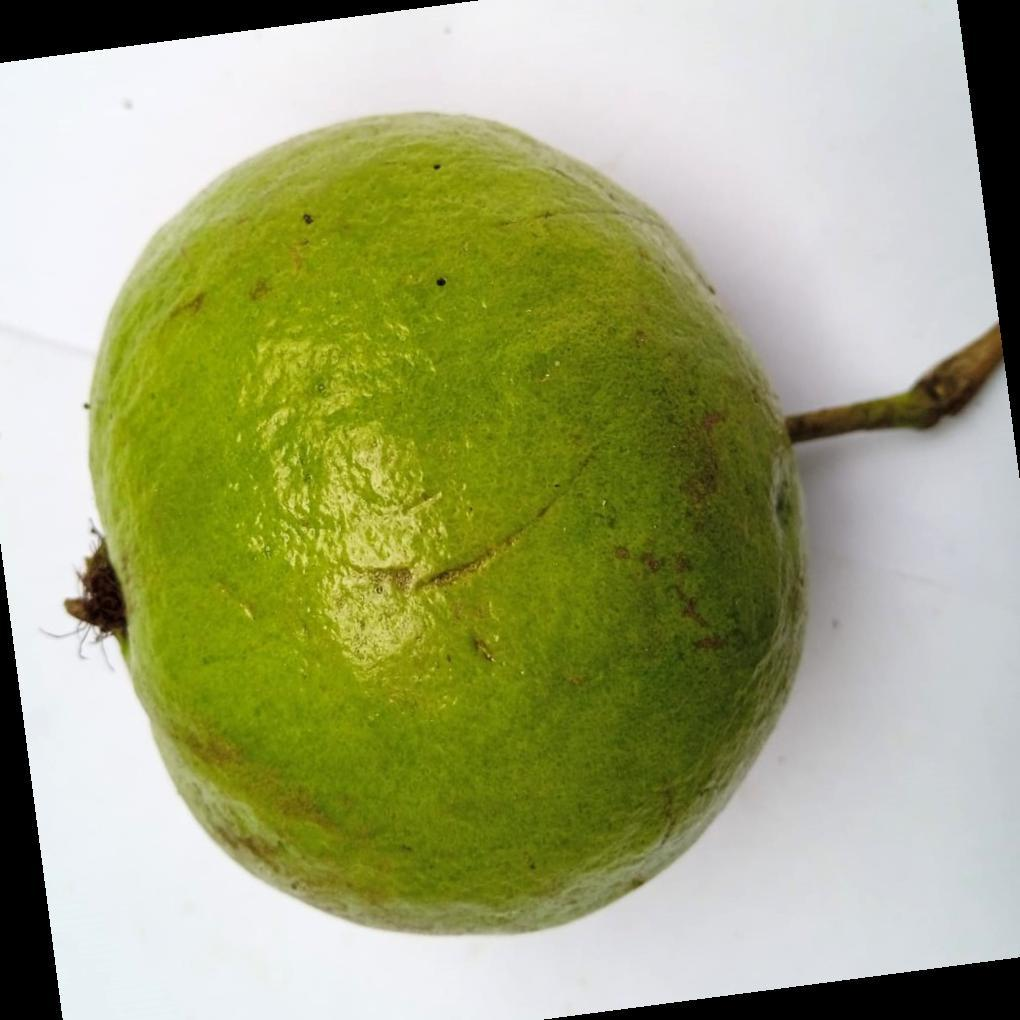FreshGuava: (83, 111, 811, 941)
